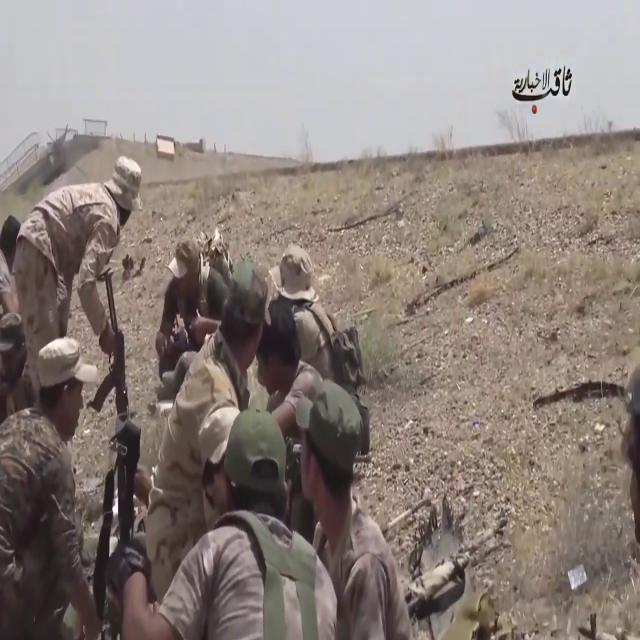long weapon: (90, 255, 147, 486)
